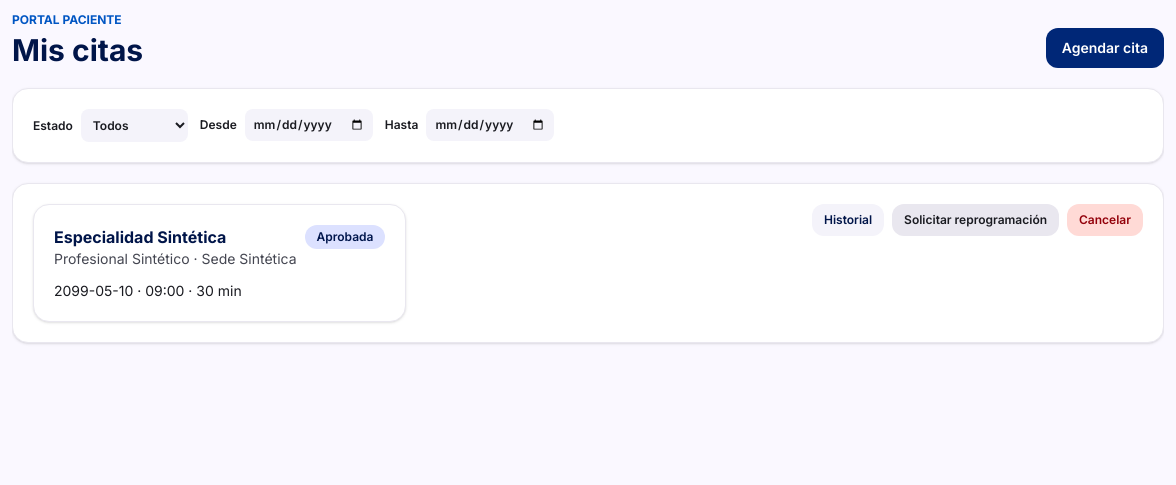
MyAppointmentsScreen › renders the history panel entries
The image size is (1176, 485).
Step 1. Click the button "Historial" → (848, 220), box [812,204,884,236]
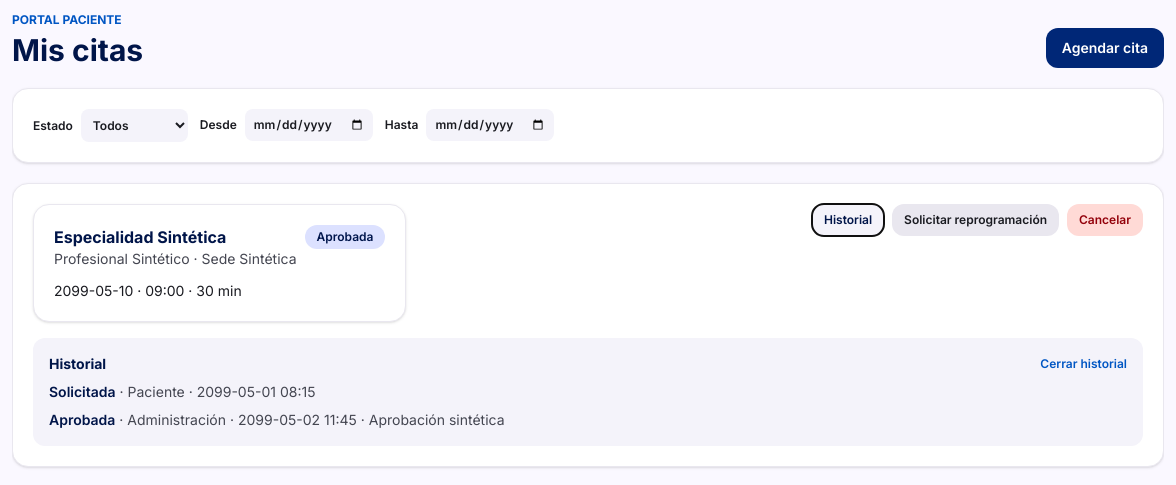
Expected: the text "Solicitada" is shown, [49,383,116,400]
Expected: the text "Aprobada" next to "Administración" is shown, [49,411,115,428]
Expected: the element named "Historial de la cita" shows "Administración", [127,411,226,428]
